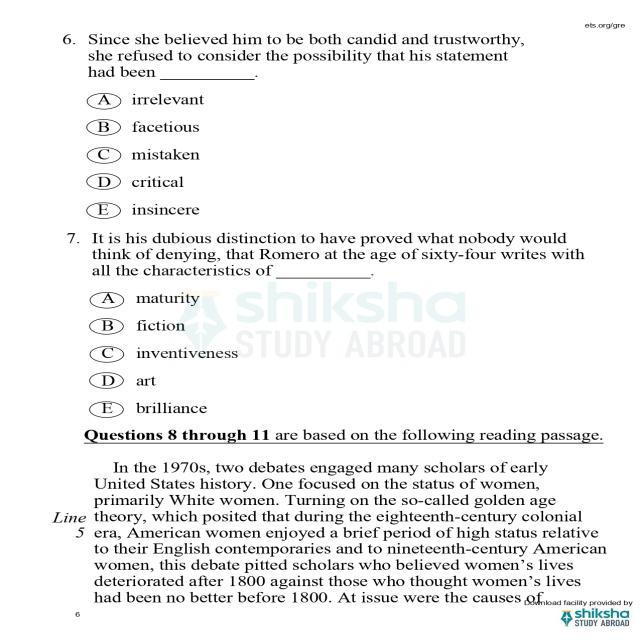Answer_Block: (21, 282, 640, 425), (21, 88, 640, 220)
Instruction: (21, 428, 640, 636)
Question_Answer_Block: (21, 222, 640, 425), (21, 31, 640, 220)
Question_Block: (21, 222, 640, 282), (21, 32, 640, 82)
Question_Paper_Area: (21, 31, 640, 636)
